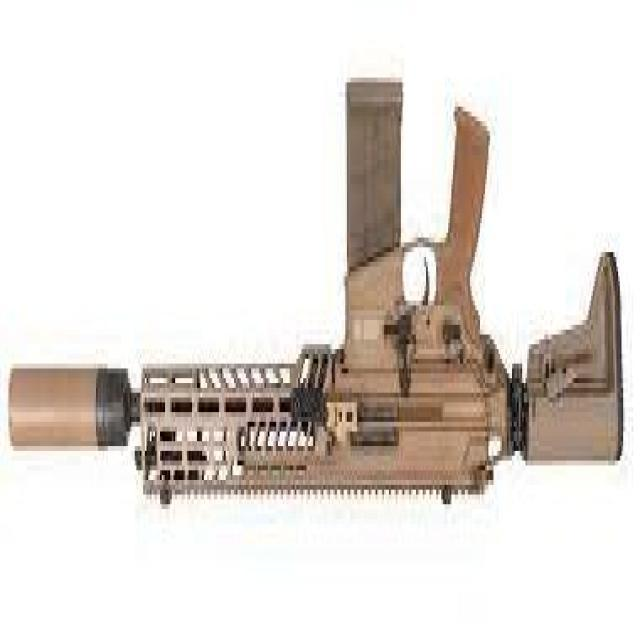weapon: (7, 77, 625, 506)
